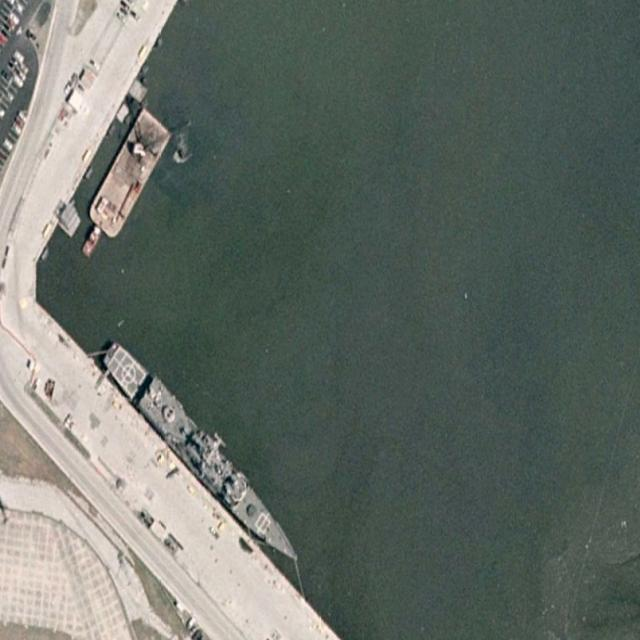Frigate: (96, 333, 308, 574)
